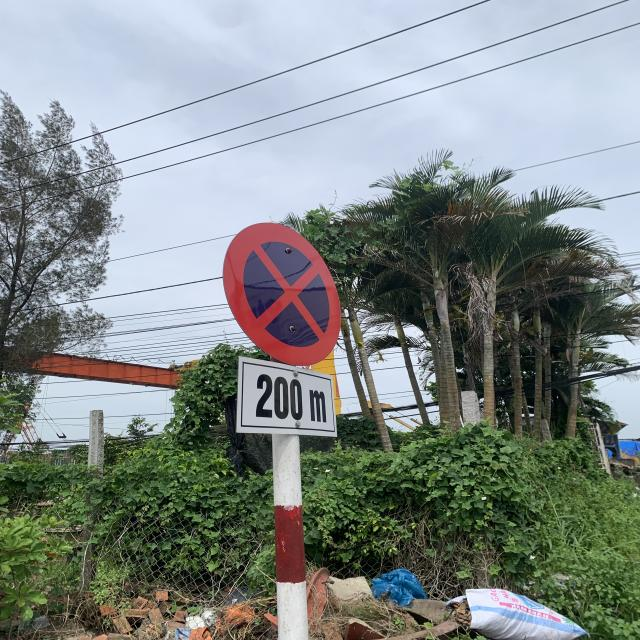Cam_Dung_Va_Dau_Xe: (225, 220, 344, 366)
